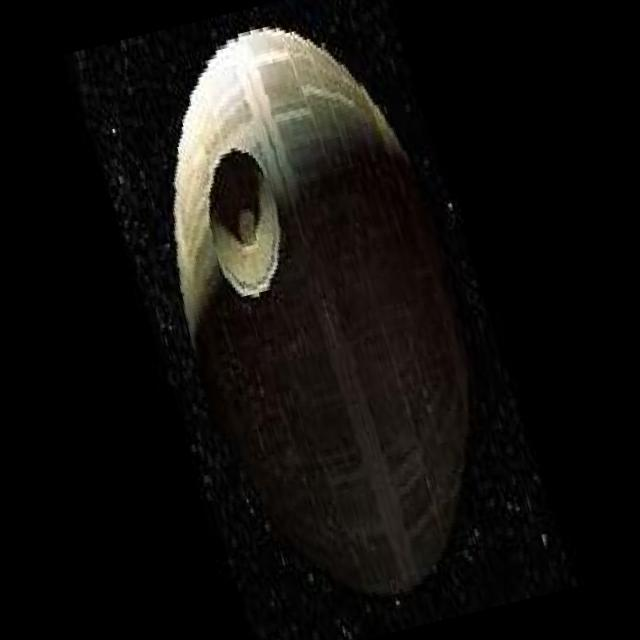Death Star: (108, 0, 536, 625)
